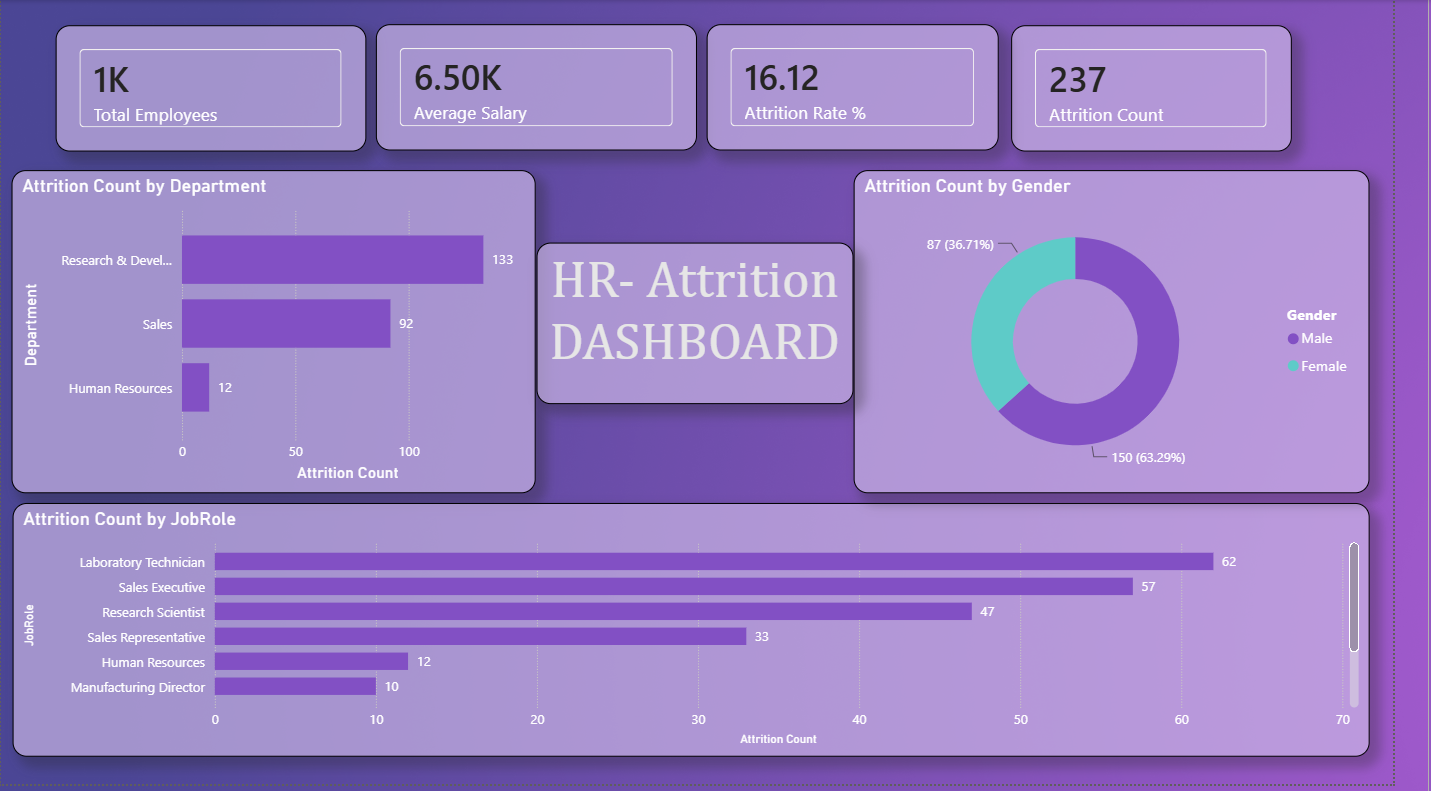

The page's visual inventory and layout, read from the dashboard file:
{"tool":"powerbi","page":{"name":"Page 1","canvas":[1280,720],"ordinal":0},"visuals":[{"type":"cardVisual","fields":{"Data":["Employee_Attrition_Predictions.Total Employees"]},"box":[50,23.3,285.6,116.7],"z":0},{"type":"cardVisual","fields":{"Data":["Employee_Attrition_Predictions.Average Salary"]},"box":[344.4,22.2,295.6,116.7],"z":1000},{"type":"cardVisual","fields":{"Data":["Employee_Attrition_Predictions.Attrition Count"]},"box":[928.9,23.3,257.8,116.7],"z":2000},{"type":"cardVisual","fields":{"Data":["Employee_Attrition_Predictions.Attrition Rate %"]},"box":[648.9,22.2,268.9,116.7],"z":3000},{"type":"clusteredBarChart","fields":{"Category":["Employee_Attrition_Predictions.Department"],"Y":["Employee_Attrition_Predictions.Attrition Count"]},"box":[10,156.7,482.2,296.7],"z":4000},{"type":"clusteredBarChart","fields":{"Category":["Employee_Attrition_Predictions.JobRole"],"Y":["Employee_Attrition_Predictions.Attrition Count"]},"box":[10.4,462.6,1247.9,232.9],"z":5000},{"type":"donutChart","fields":{"Category":["Employee_Attrition_Predictions.Gender"],"Y":["Employee_Attrition_Predictions.Attrition Count"]},"box":[783.3,156.7,474.4,296.7],"z":6000},{"type":"textbox","box":[492.2,223.3,291.1,148.9],"z":7000}]}

Visuals, with their boxes in screenshot pixels (x1, y1, x2, y2), scaled from the page's 1280x720 canvas onto the 1431x791 screenshot:
cardVisual - Employee_Attrition_Predictions.Total Employees: bbox(56, 26, 375, 154)
cardVisual - Employee_Attrition_Predictions.Average Salary: bbox(385, 24, 716, 153)
cardVisual - Employee_Attrition_Predictions.Attrition Count: bbox(1038, 26, 1327, 154)
cardVisual - Employee_Attrition_Predictions.Attrition Rate %: bbox(725, 24, 1026, 153)
clusteredBarChart - Employee_Attrition_Predictions.Department x Employee_Attrition_Predictions.Attrition Count: bbox(11, 172, 550, 498)
clusteredBarChart - Employee_Attrition_Predictions.JobRole x Employee_Attrition_Predictions.Attrition Count: bbox(12, 508, 1407, 764)
donutChart - Employee_Attrition_Predictions.Gender x Employee_Attrition_Predictions.Attrition Count: bbox(876, 172, 1406, 498)
textbox: bbox(550, 245, 876, 409)
